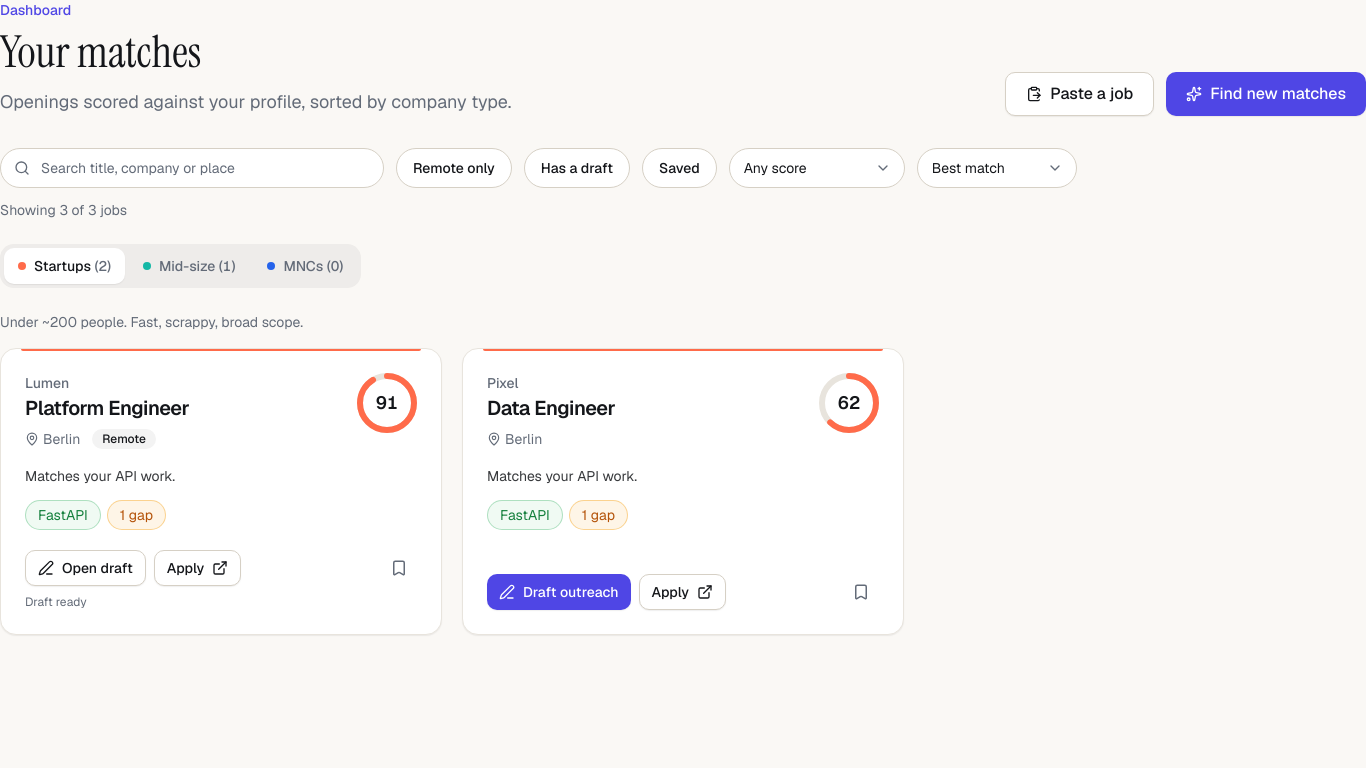
Test: Dashboard › explains a server rejection of a pasted job inside the dialog
The width and height of the screenshot is (1366, 768).
Expected: the link "Platform Engineer" is shown, [25, 395, 189, 421]
Step 1. Click the button "Paste a job" → (1080, 94), box [1005, 72, 1154, 116]
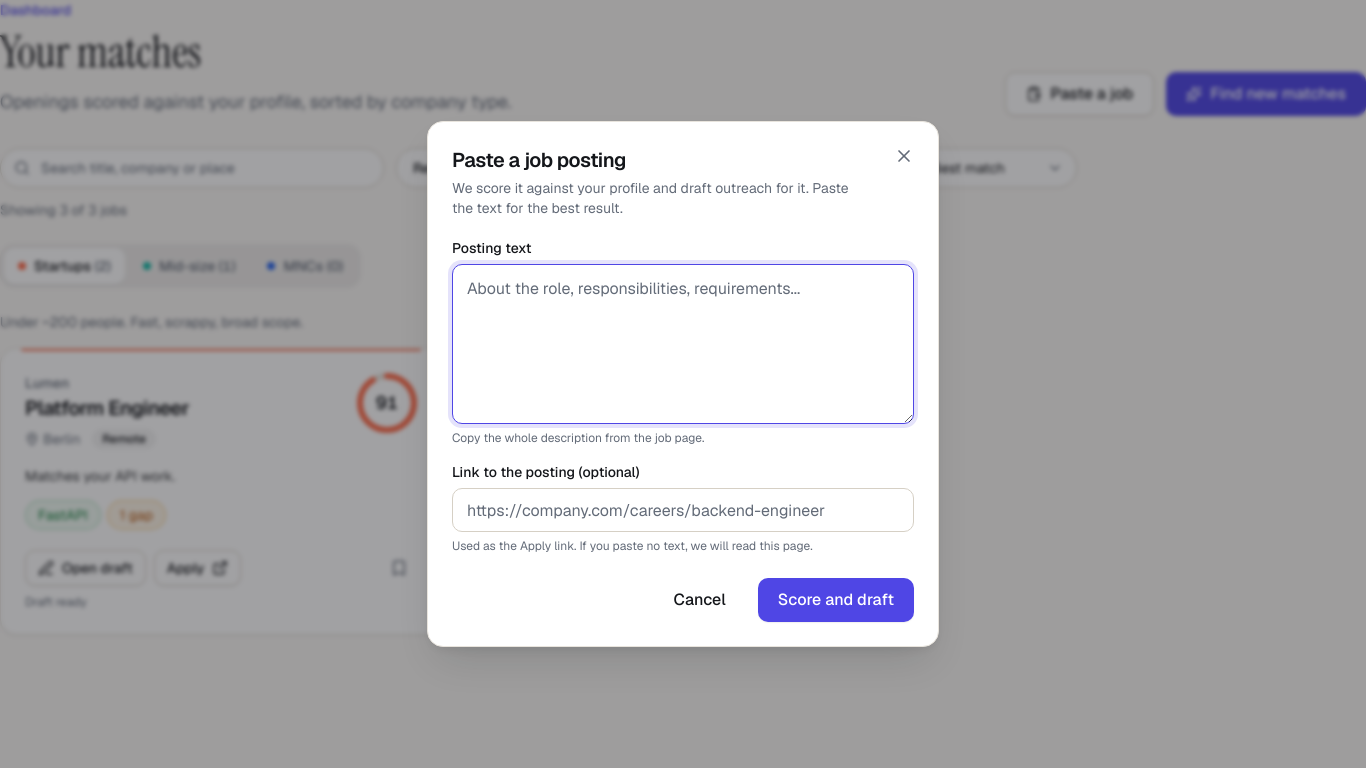
Step 2. Type "https://acme.com/jobs/1" into the field labelled "Link to the posting (optional)" → (683, 510), box [452, 488, 914, 532]
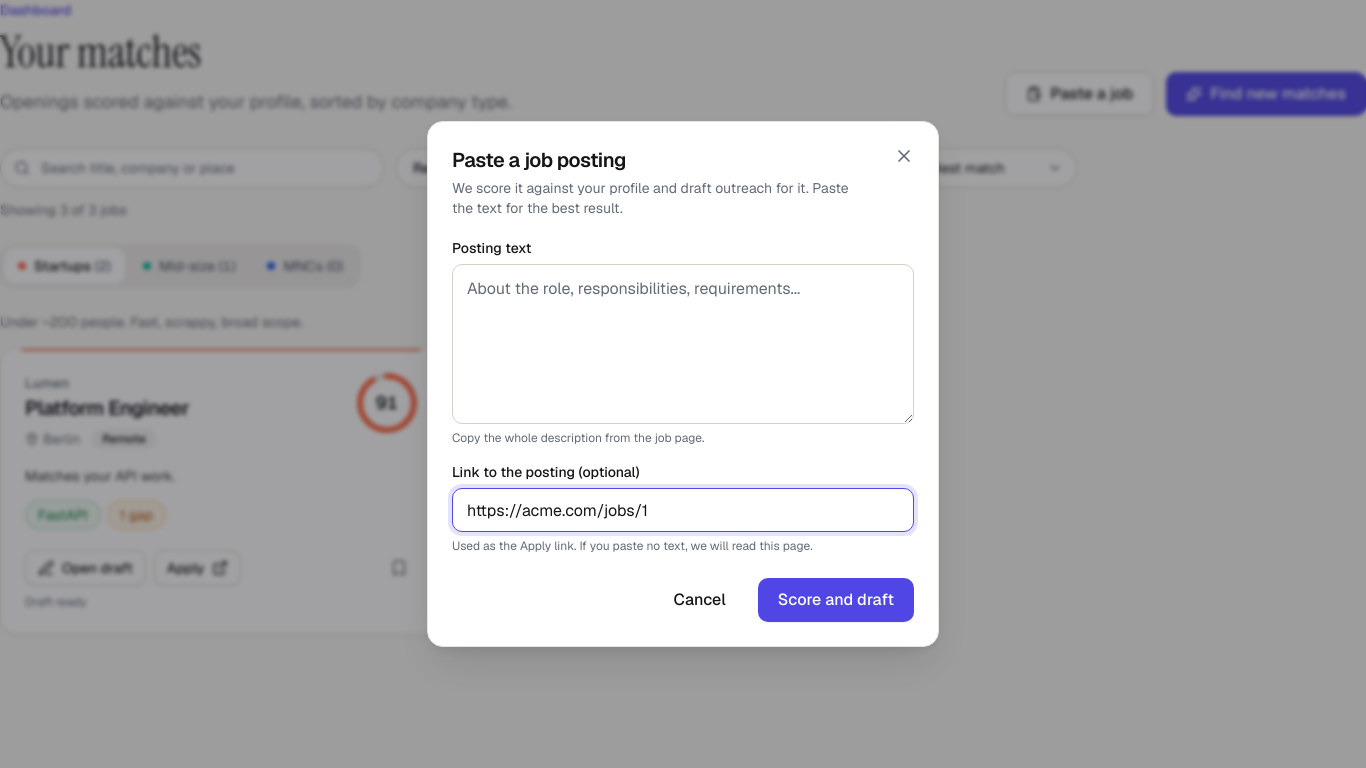
Step 3. Click the button "Score and draft" → (836, 600), box [758, 578, 914, 622]
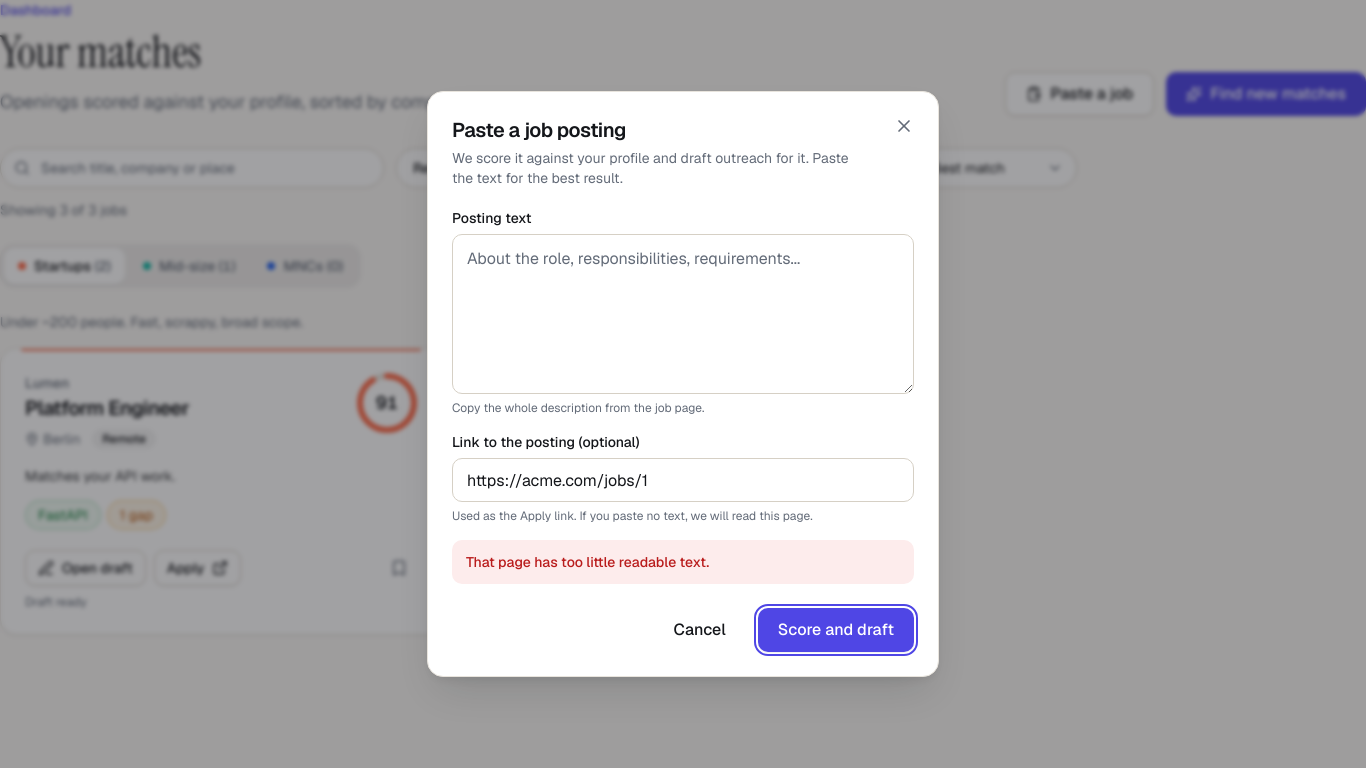
Expected: the message shows "too little readable text", [466, 553, 709, 571]
